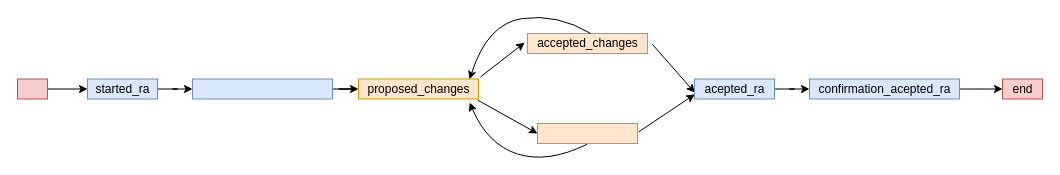
The diagram is 1060 pixels wide and 175 high, and some of its shapes have lost their labels. The shapes that lost their labels are listed below. From the top down, each one's box as (x1, y1, x2, y2) in pixels, then its label:
(16, 78, 48, 99): init
(192, 78, 332, 99): confirmation_ra_started
(536, 122, 638, 144): denied_changes
